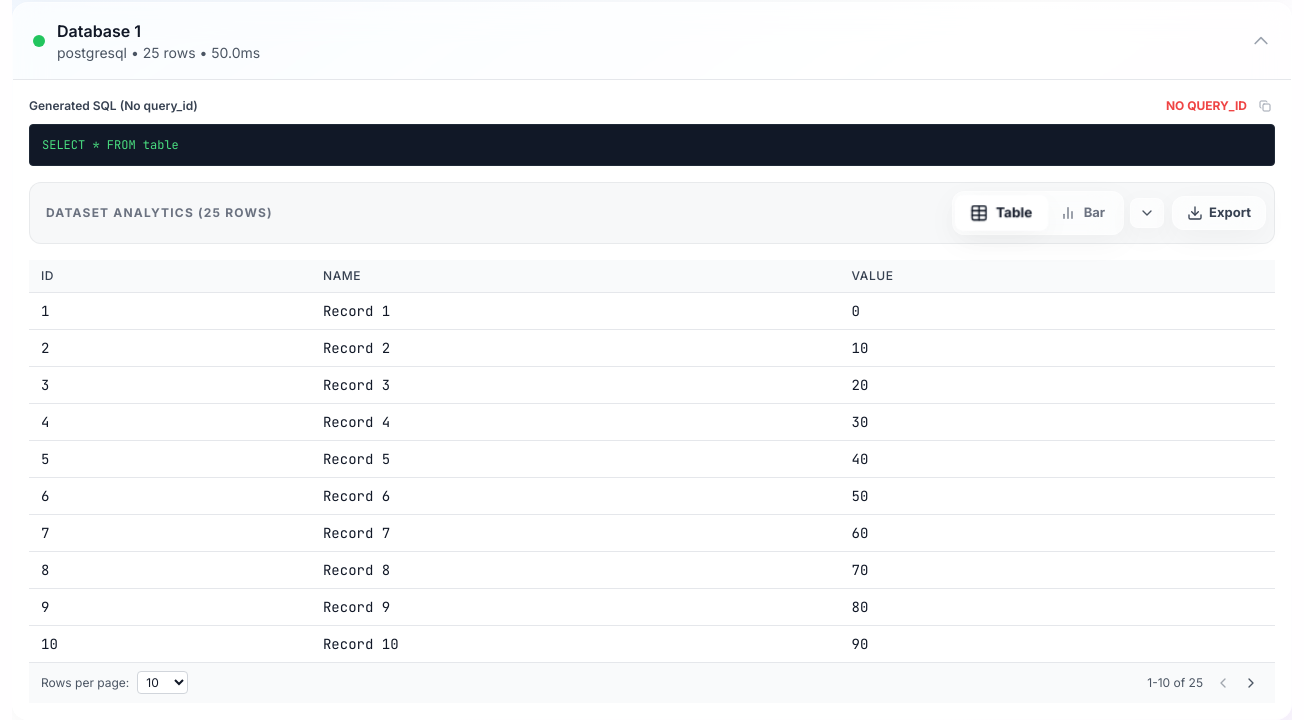
MultiDatabaseResults › Pagination › can navigate to previous page
The width and height of the screenshot is (1304, 720).
(page scrolled)
Step 1. Click the 8th button → x=1251, y=682, box [1239,670,1263,694]
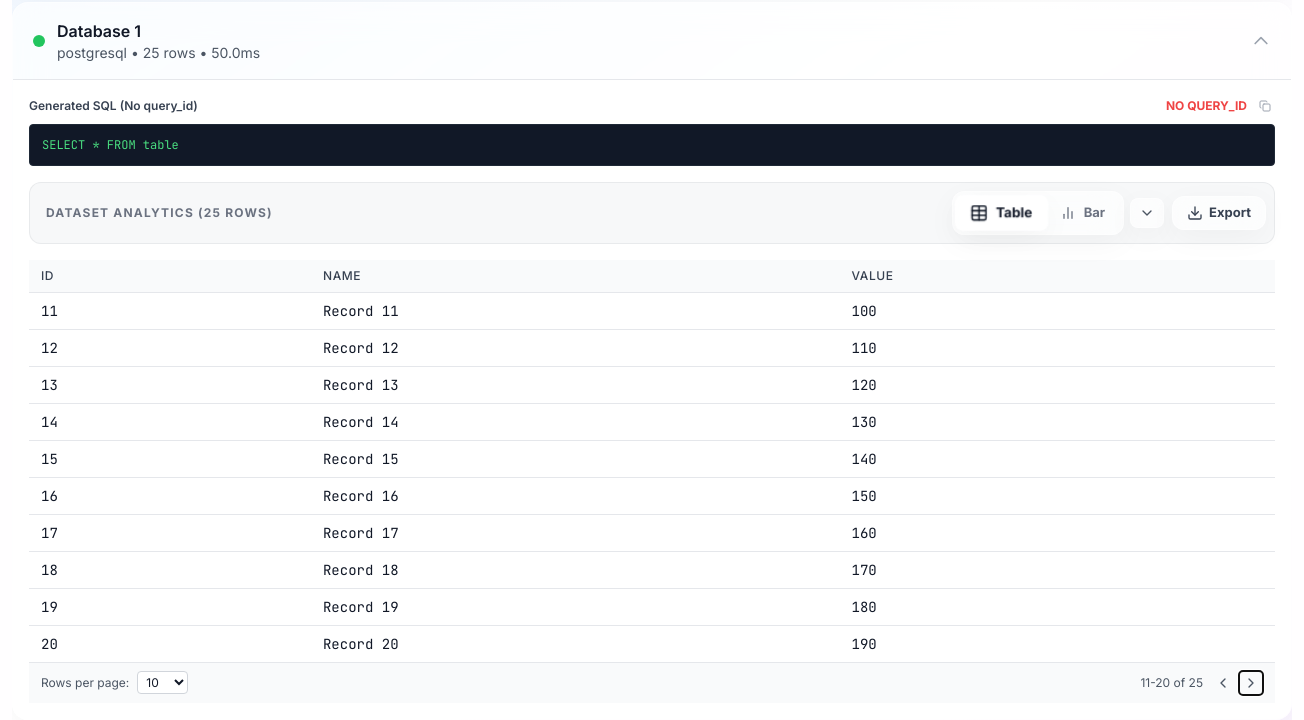
Expected: the text "Record 11" is shown, [311,292,840,329]
Step 2. Click the 7th button → x=1223, y=682, box [1211,670,1235,694]
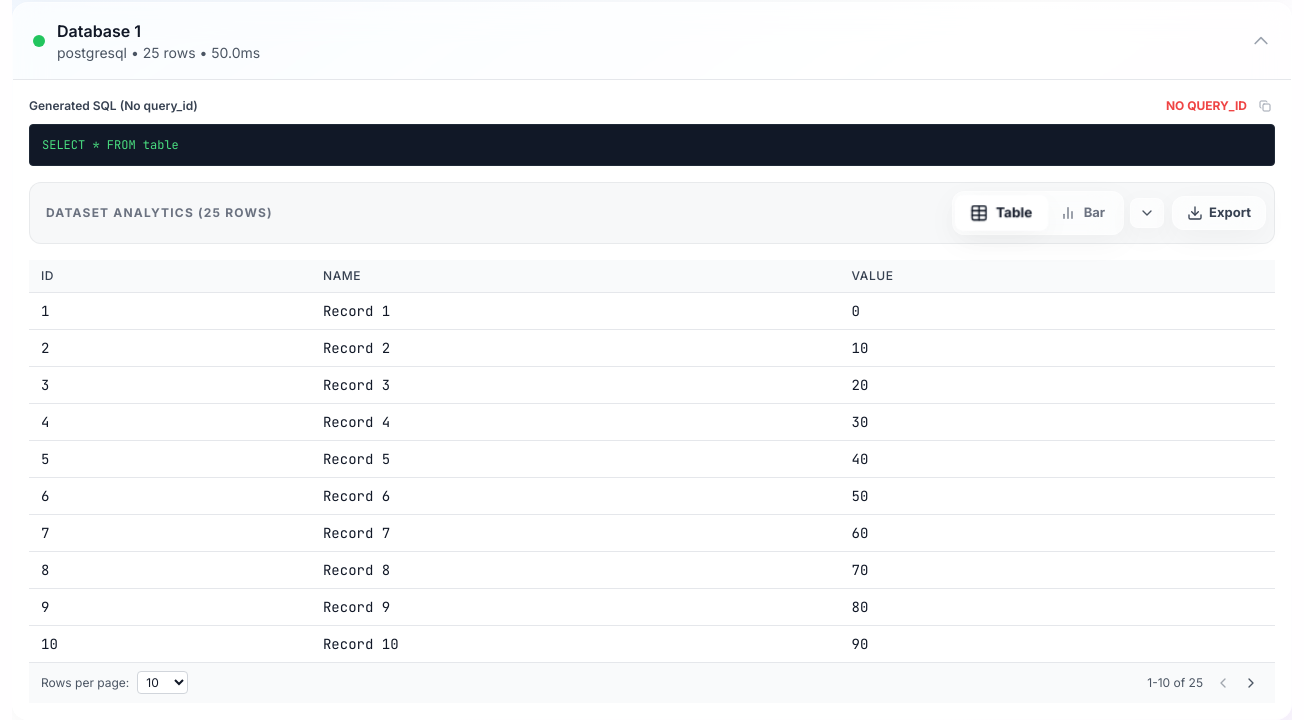
Expected: the text "Record 1" is shown, [311,292,840,329]
Expected: the text "1-10 of 25" is shown, [1147,674,1203,690]
